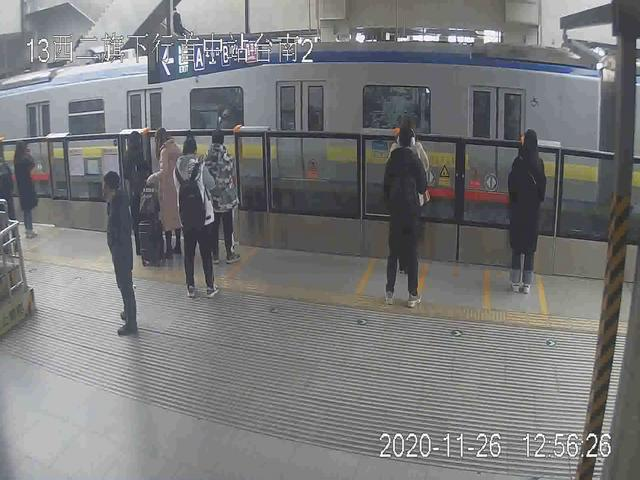person: (383, 128, 424, 308), (175, 135, 218, 297), (98, 170, 139, 335), (509, 128, 544, 297), (206, 130, 242, 261), (118, 132, 153, 261), (152, 128, 182, 264), (12, 140, 40, 236)
